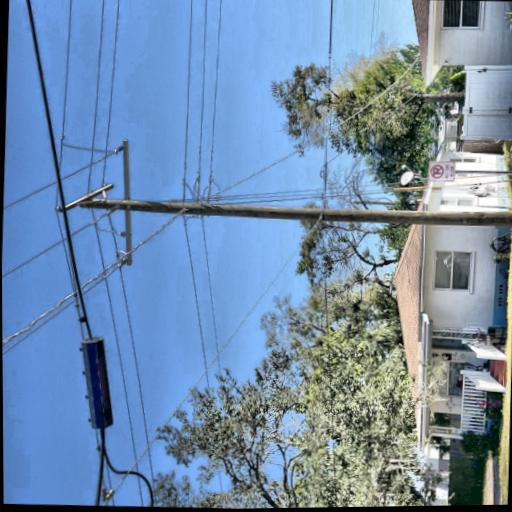pole: (138, 205, 180, 507)
